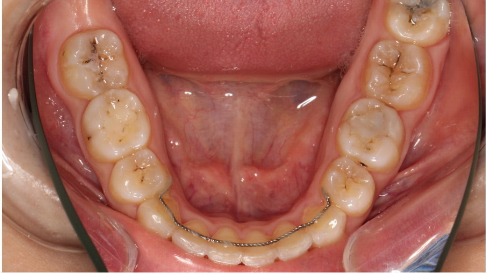LL1BC_decay: (323, 157, 374, 220)
LL1M_decay: (365, 40, 432, 103)
LL2BC_decay: (335, 98, 406, 174)
LL2M_decay: (381, 1, 452, 47)
LLCI_decay: (243, 230, 277, 266)
LLC_decay: (300, 205, 345, 247)
LLLI_decay: (271, 220, 313, 260)
LR1BC_decay: (107, 148, 171, 201)
LR1M_decay: (57, 26, 129, 99)
LR2BC_decay: (82, 88, 151, 161)
LRCI_decay: (207, 228, 241, 265)
LRC_decay: (137, 199, 182, 239)
LRLI_decay: (175, 219, 210, 257)
